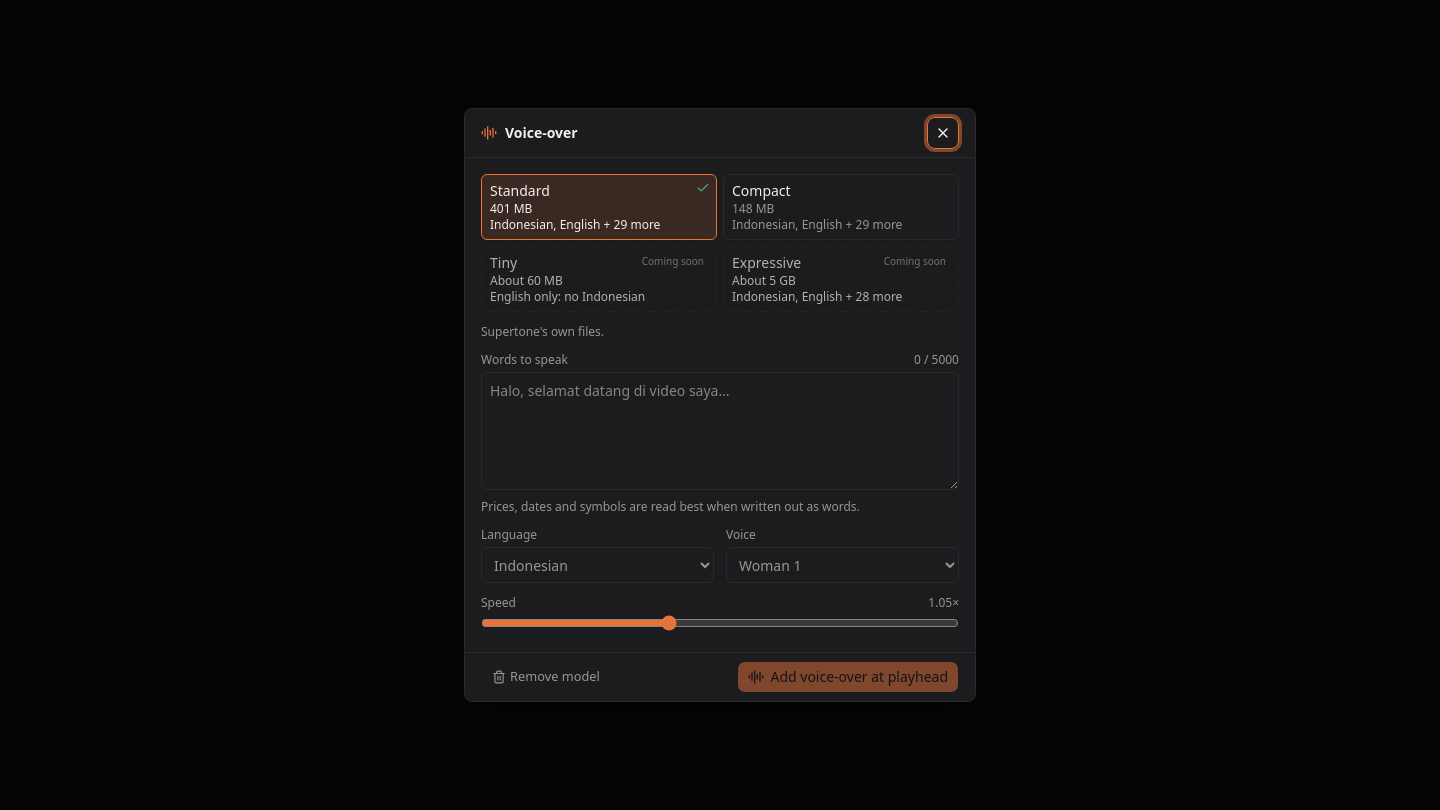
the Voice-over dialog › says why when the voice could not be made, and adds nothing
Type "Halo" into the text box labelled "Words to speak". click: (720, 431)
box: [481,372,959,490]
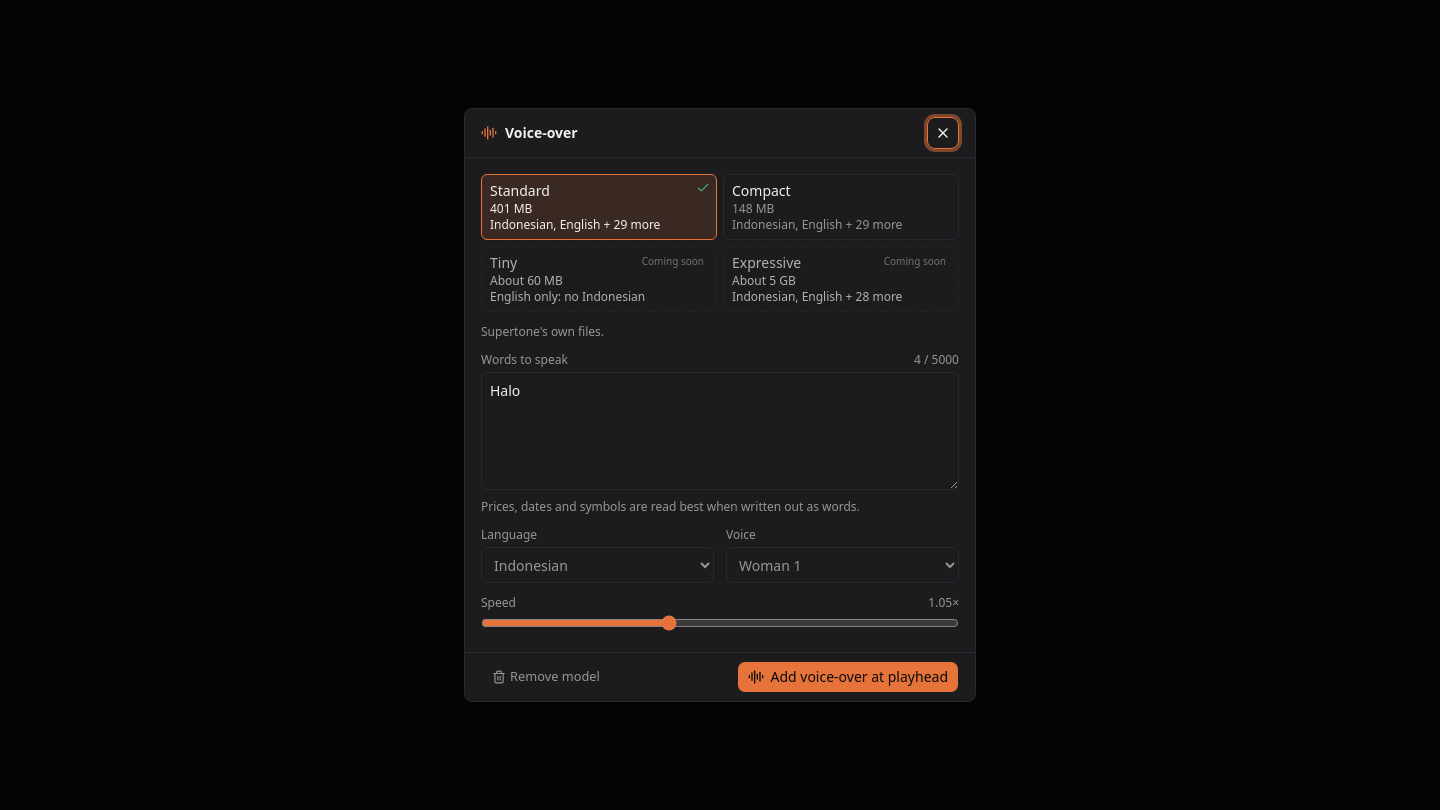
Click the button "Add voice-over at playhead". click: (848, 677)
box: [738,661,959,693]
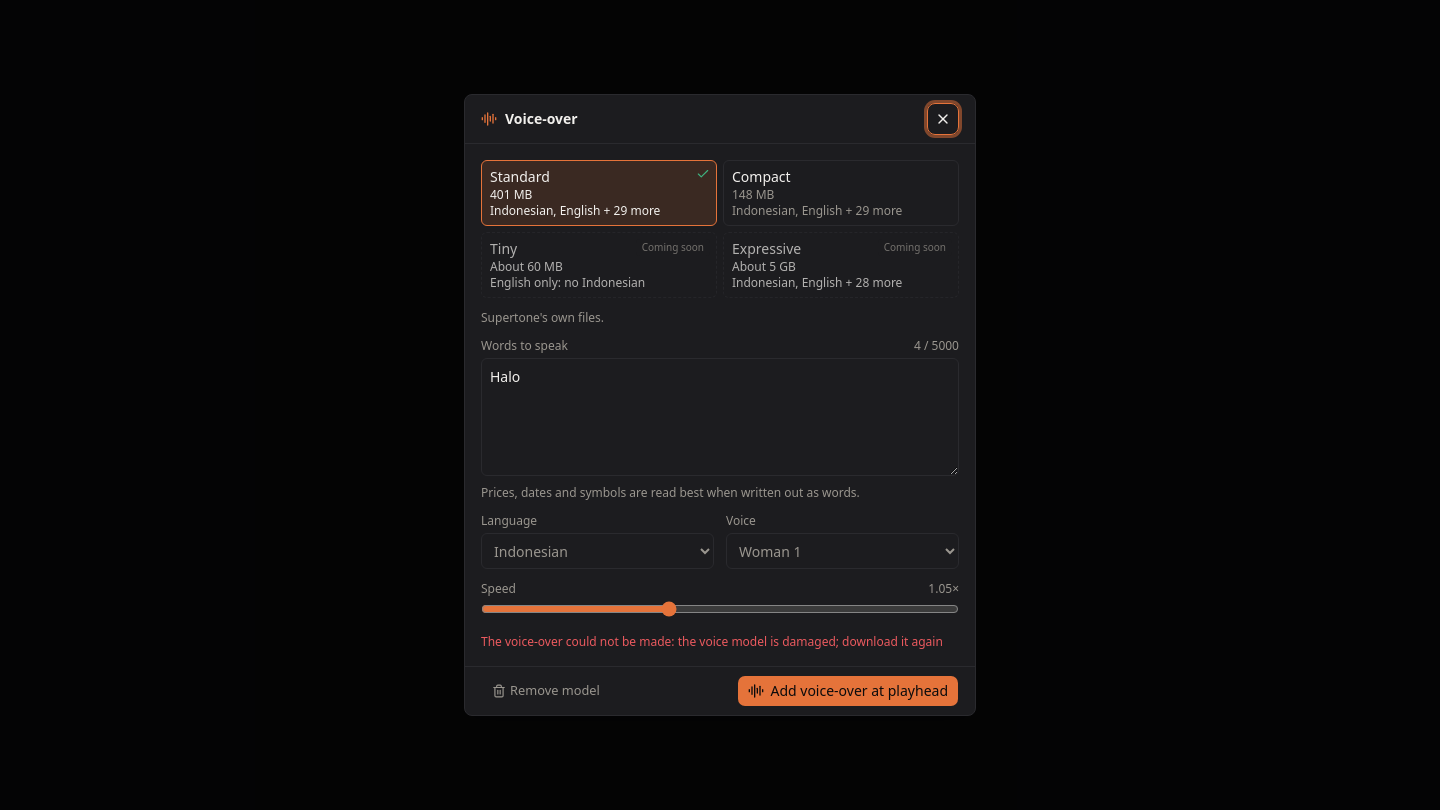
Expected: the message shows "the voice model is damaged", [481,633,943,650]
